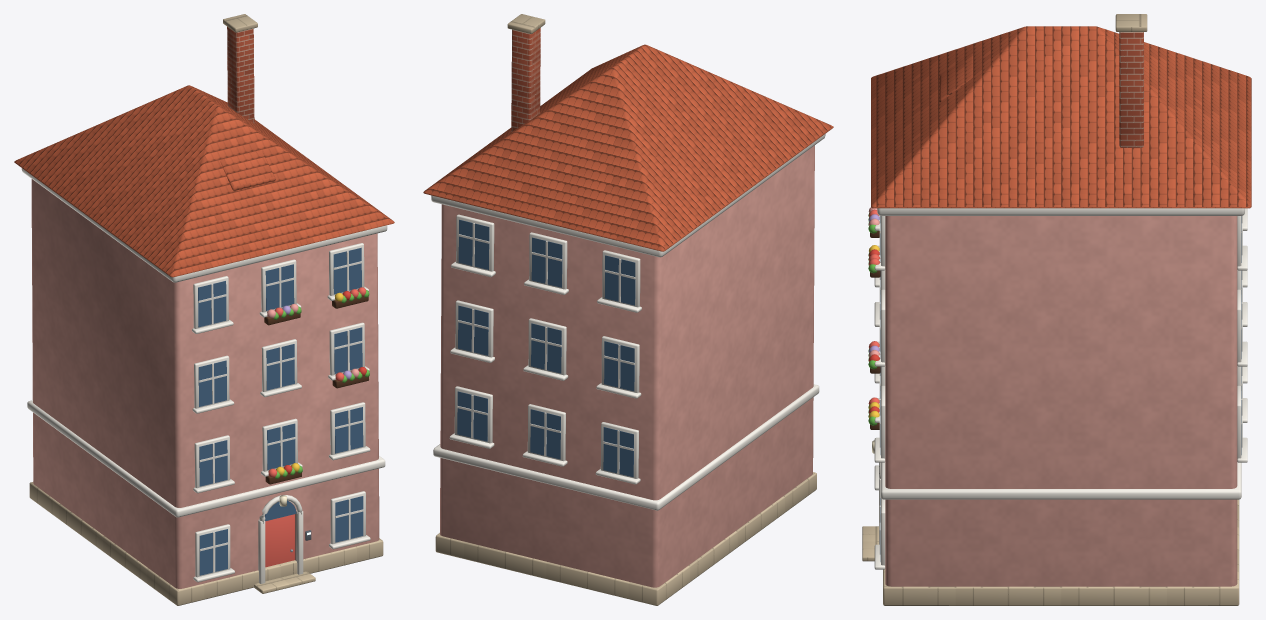
Rendered from house_l.gltf.
The picture shows the model from 3 angles, left to right: view 1: azimuth 30°, elevation 25°; view 2: azimuth 150°, elevation 25°; view 3: azimuth 270°, elevation 25°; orthographic projection. The views are drawn at different scales.
Visible parts, largest first — view 1: house_l_mesh, INT_door_house_l_0; view 2: house_l_mesh; view 3: house_l_mesh.
Boxes of the visible parts, box(x1,y1,x2,y2) form: house_l_mesh: box(14, 14, 394, 605); INT_door_house_l_0: box(265, 514, 294, 567); house_l_mesh: box(423, 14, 833, 605); house_l_mesh: box(862, 14, 1251, 605).
Size of what is drawn, in the model's own units: 8.82 by 17.66 by 11.06.
19 materials, 4 textured.
